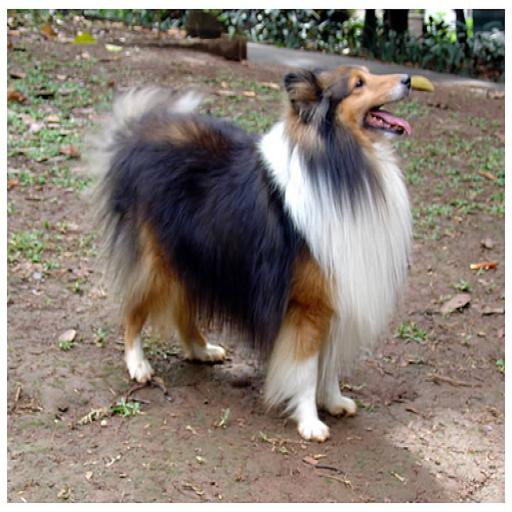dog_face: (284, 53, 410, 152)
